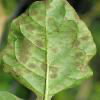Tomato mold leaf: (0, 1, 98, 99)
